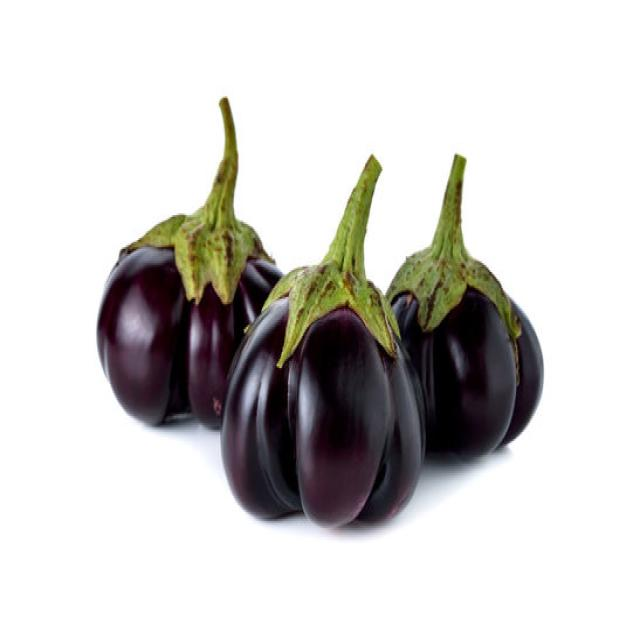Eggplant: (219, 151, 426, 528), (95, 94, 284, 428), (384, 151, 542, 461)
